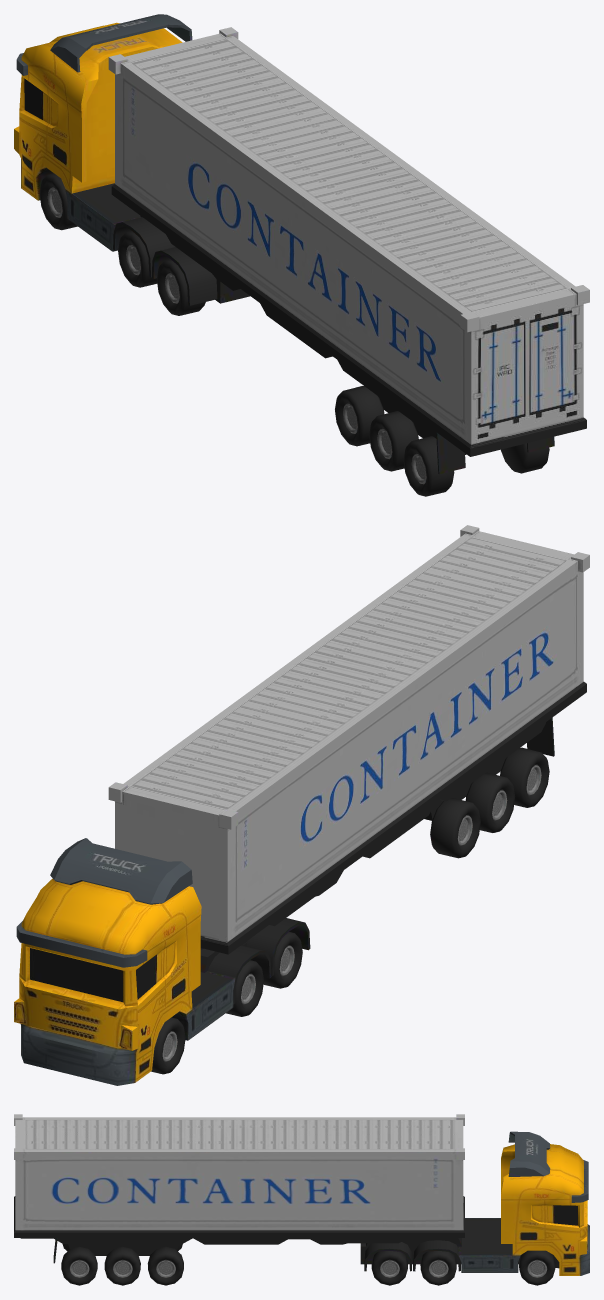
3 views of the same model, one above another, from view 1: azimuth 30°, elevation 25°; view 2: azimuth 150°, elevation 25°; view 3: azimuth 270°, elevation 25° (orthographic). The views are drawn at different scales.
Visible parts, largest first — view 1: Xe_Container; view 2: Xe_Container; view 3: Xe_Container.
Boxes of the visible parts, <box> form: Xe_Container: <box>14,14,589,496</box>; Xe_Container: <box>14,525,589,1085</box>; Xe_Container: <box>14,1114,589,1285</box>.
Size of the model in its own units: 2.14 by 3.54 by 13.69.
Materials: 1 (1 with a texture image).
